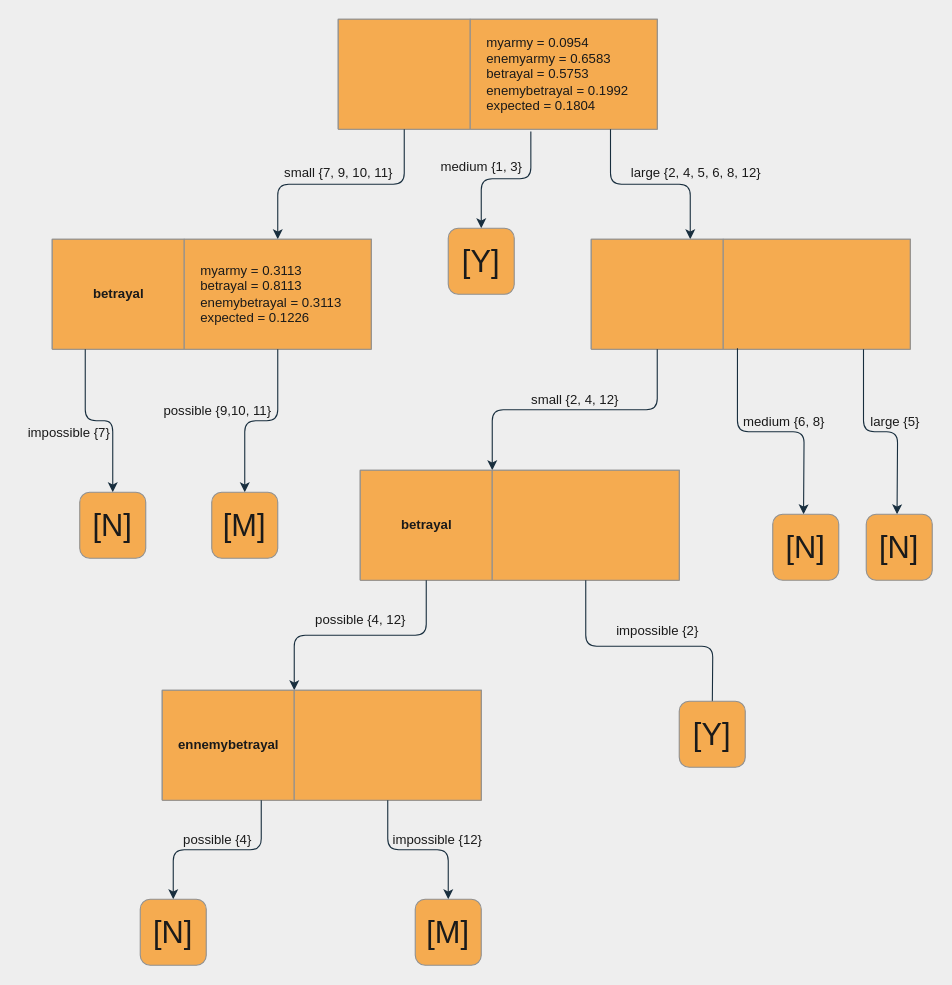
Image size: 952x985. Some labels were removed from this diagram. The centre of each missing label's shape, as x and y in pixels:
betrayal = 0.9183 enemybetrayal = 0.9183 expected = 0: point 585,524
enemyarmy: point 403,73
enemybetrayal = 1 expected = 0: point 387,744
myarmy: point 656,293
myarmy = 0.4591 betrayal = 0.3774 enemybetrayal = 0.3774 expected = 0.1092: point 816,293
